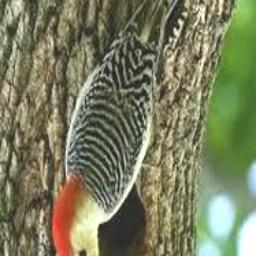Woodpecker: (52, 0, 201, 256)
